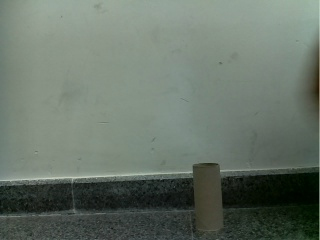rollo papel: (192, 162, 224, 230)
